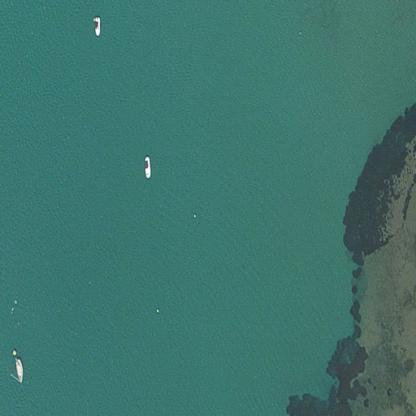ship: (13, 356, 24, 384), (142, 155, 150, 177), (92, 14, 99, 38), (13, 350, 14, 354)
